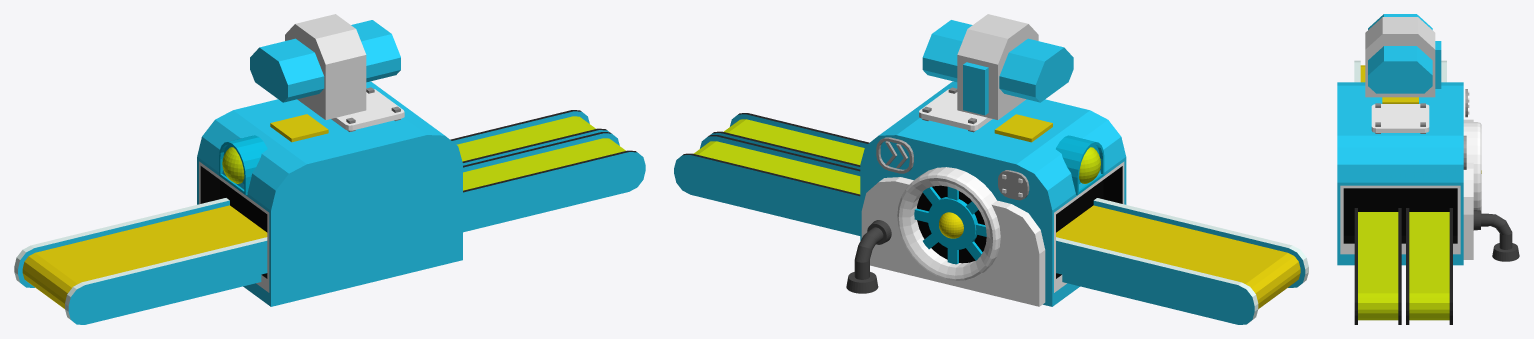
The model's file is HeadMachine 1.fbx.
3 views of the same model, side by side, from view 1: azimuth 30°, elevation 25°; view 2: azimuth 150°, elevation 25°; view 3: azimuth 270°, elevation 25° (orthographic). The views are drawn at different scales.
Parts seen in each view (by area): view 1: HeadMachine, HeadMachineOutorIn, line, HeadMachineOutorIn.001, line.001, line.002, HeadMachineOutorIn.002, BigLight; view 2: HeadMachine, HeadMachineOutorIn, line, HeadMachineOutorIn.002, line.002, HeadMachineWheel, line.001, HeadMachineOutorIn.001, BigLight, SmallLight; view 3: HeadMachine, line.002, line.001, HeadMachineOutorIn.001, HeadMachineOutorIn.002, HeadMachineOutorIn.
Boxes of the visible parts, x1,y1,x2,y2 form: HeadMachine: (197, 14, 462, 306); HeadMachineOutorIn: (14, 198, 267, 324); line: (22, 205, 267, 308); HeadMachineOutorIn.001: (463, 132, 645, 232); line.001: (463, 138, 625, 190); line.002: (456, 116, 595, 161); HeadMachineOutorIn.002: (450, 110, 609, 165); BigLight: (222, 147, 244, 183); HeadMachine: (846, 14, 1126, 306); HeadMachineOutorIn: (1056, 198, 1308, 324); line: (1056, 205, 1300, 308); HeadMachineOutorIn.002: (674, 135, 860, 235); line.002: (693, 141, 860, 194); HeadMachineWheel: (914, 186, 986, 264); line.001: (723, 119, 864, 164); HeadMachineOutorIn.001: (710, 113, 869, 169); BigLight: (1079, 147, 1100, 183); SmallLight: (939, 212, 963, 238); HeadMachine: (1337, 14, 1519, 265); line.002: (1409, 212, 1449, 320); line.001: (1358, 212, 1398, 320); HeadMachineOutorIn.001: (1354, 208, 1401, 324); HeadMachineOutorIn.002: (1406, 208, 1452, 324); HeadMachineOutorIn: (1354, 60, 1446, 82).
Size of the model in its own units: 902 by 288 by 349.
